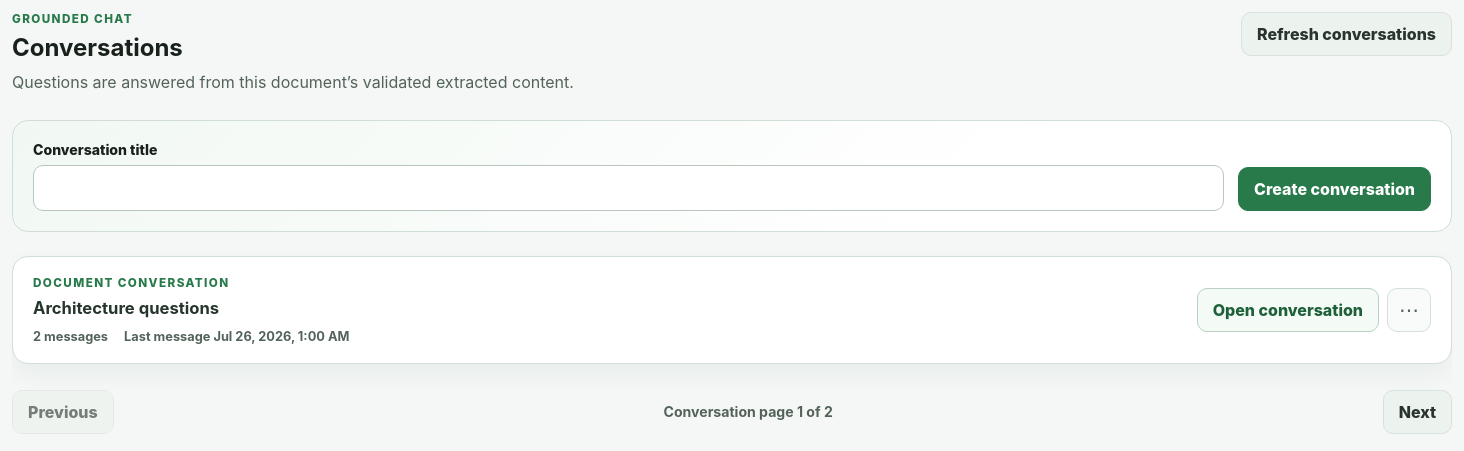
Test case: Document conversations › opens canonical conversations and paginates with keyboard-operable buttons
Step 1. Click the button with aria-label "Next conversation page" → (1417, 412), box [1383, 390, 1452, 434]
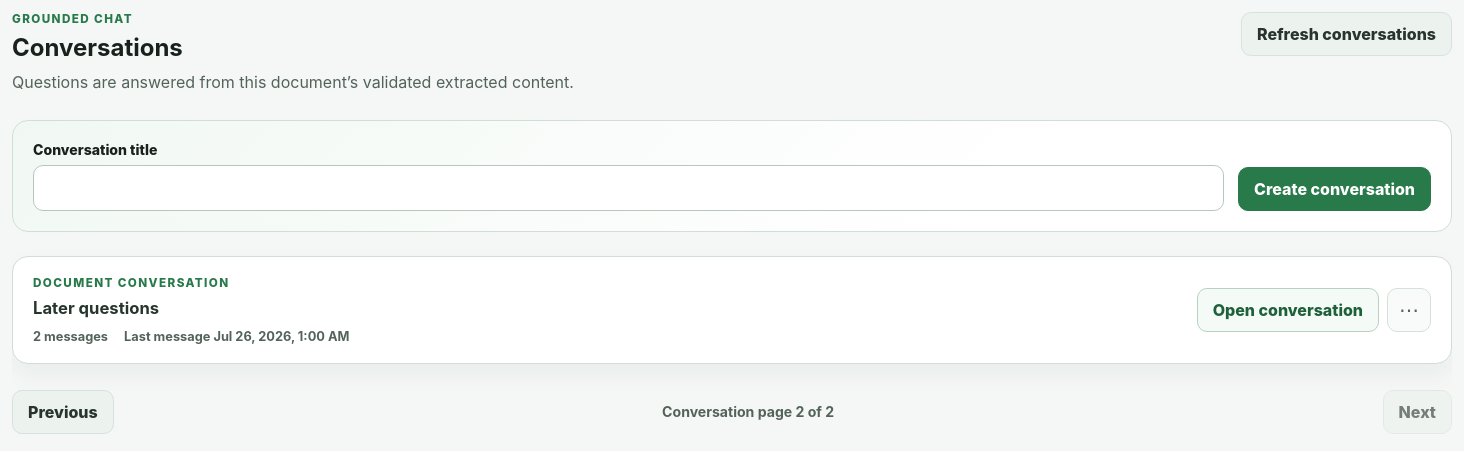
Check: the heading "Later questions" is shown, box [33, 298, 159, 318]
